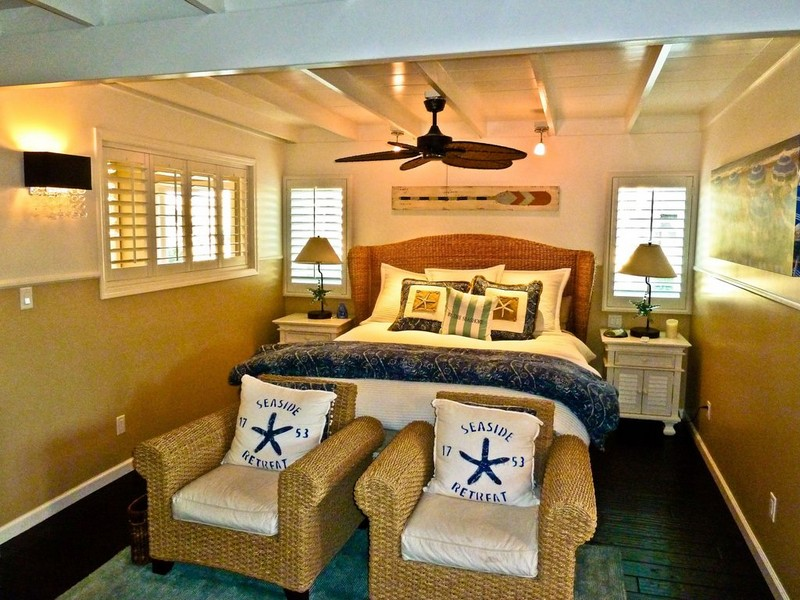bed: (243, 236, 620, 464)
chair: (131, 364, 376, 586), (363, 391, 596, 600)
lamp: (619, 236, 678, 342), (287, 223, 341, 324)
stool: (593, 319, 694, 439)
